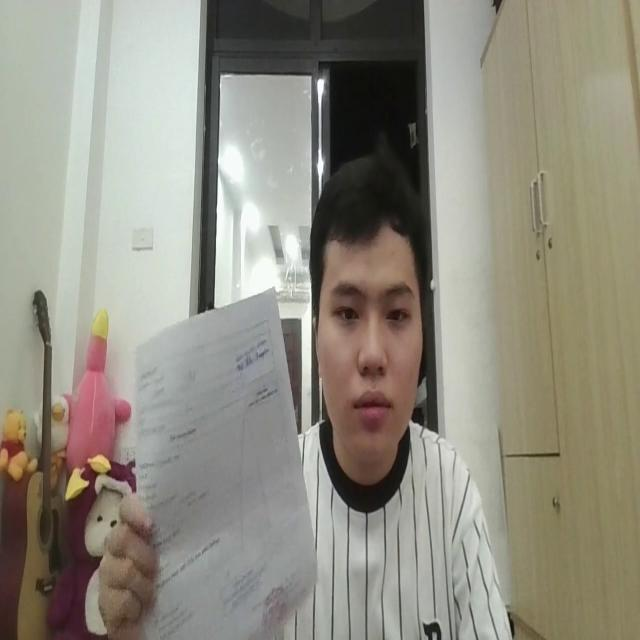book: (130, 288, 318, 630)
student: (293, 148, 511, 640)
